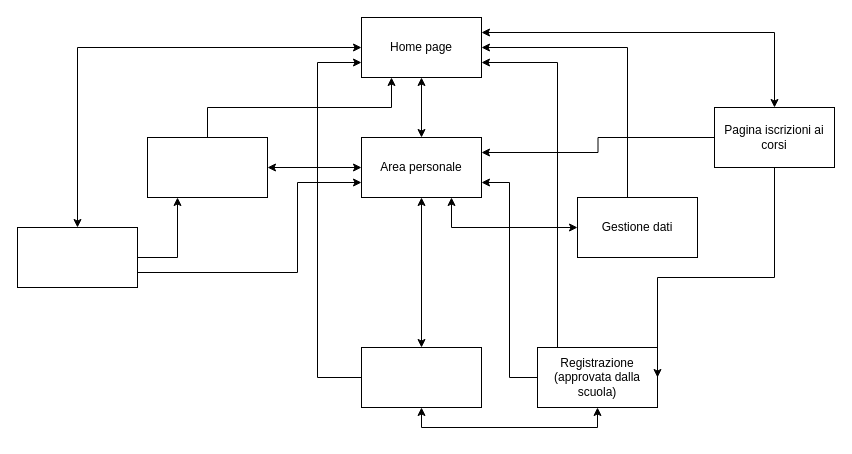
Some shapes in this 852 by 454 pixel diagram are drawn without their labels. Here are the shapes that lost their labels. From the top down, the centre of each, then its label:
At (x=207, y=167): "Gestione prenotazioni (per responsabili)".
At (x=77, y=257): "Sala prove".
At (x=421, y=377): "Login".
